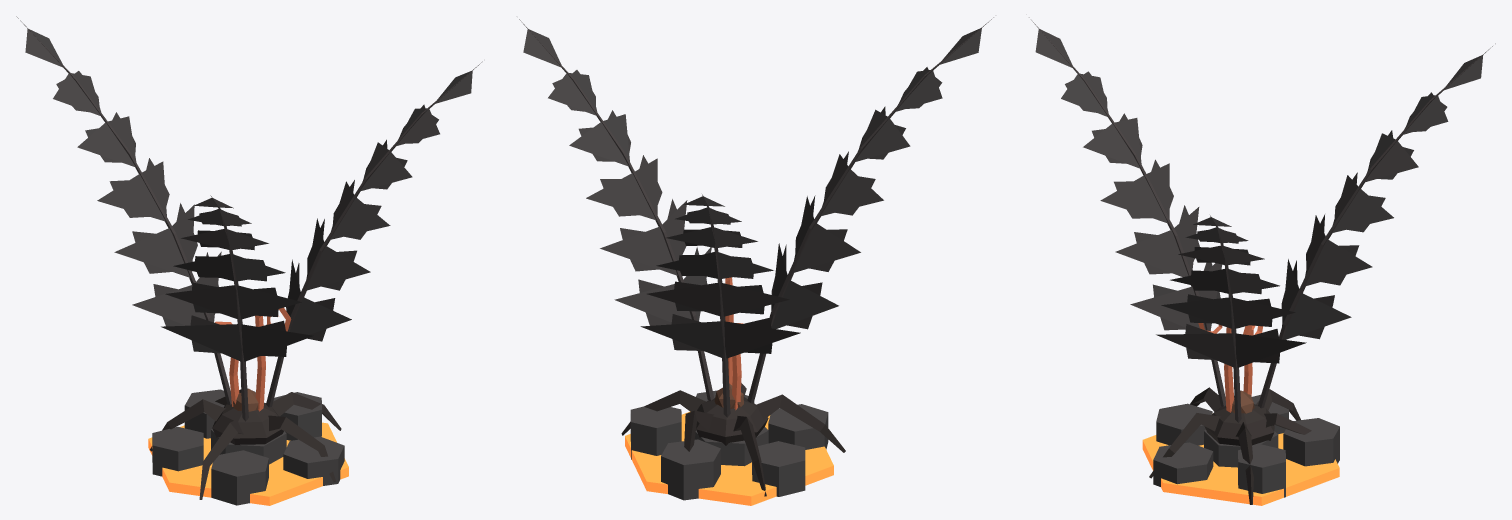
File: plant_t3_d.fbx
The picture shows the model from 3 angles, left to right: view 1: azimuth 30°, elevation 25°; view 2: azimuth 150°, elevation 25°; view 3: azimuth 270°, elevation 25°; orthographic projection. The views are drawn at different scales.
Visible parts, largest first — view 1: plant_t3_d; view 2: plant_t3_d; view 3: plant_t3_d.
Part boxes in pixels (left/top/right/bottom): plant_t3_d: left=16, top=16, right=482, bottom=505; plant_t3_d: left=519, top=17, right=993, bottom=505; plant_t3_d: left=1029, top=17, right=1495, bottom=505.
Size of the model in its own units: 30.3 by 30.07 by 34.04.
